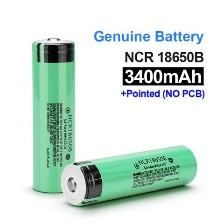battery: (58, 139, 199, 208), (30, 33, 80, 196)
